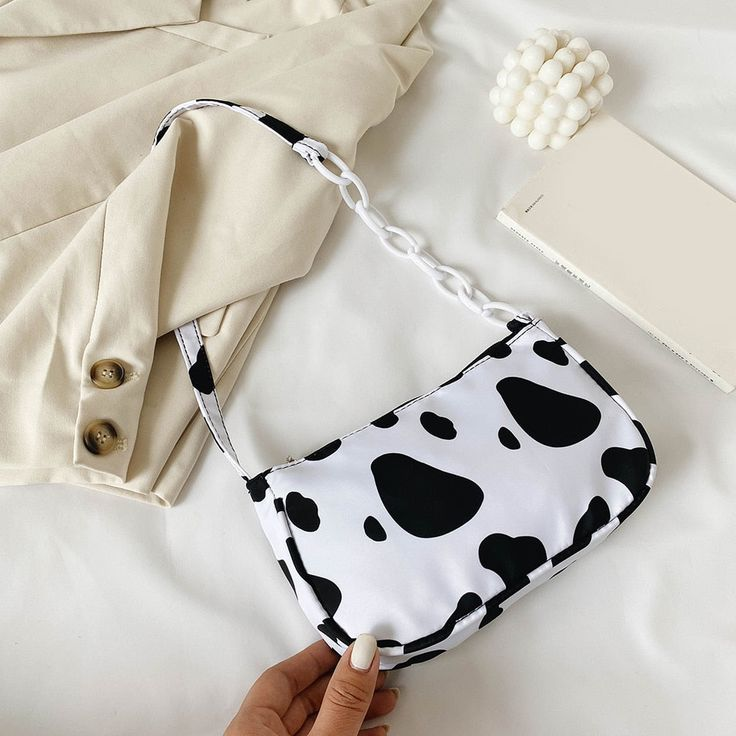nylon: (148, 96, 656, 673)
